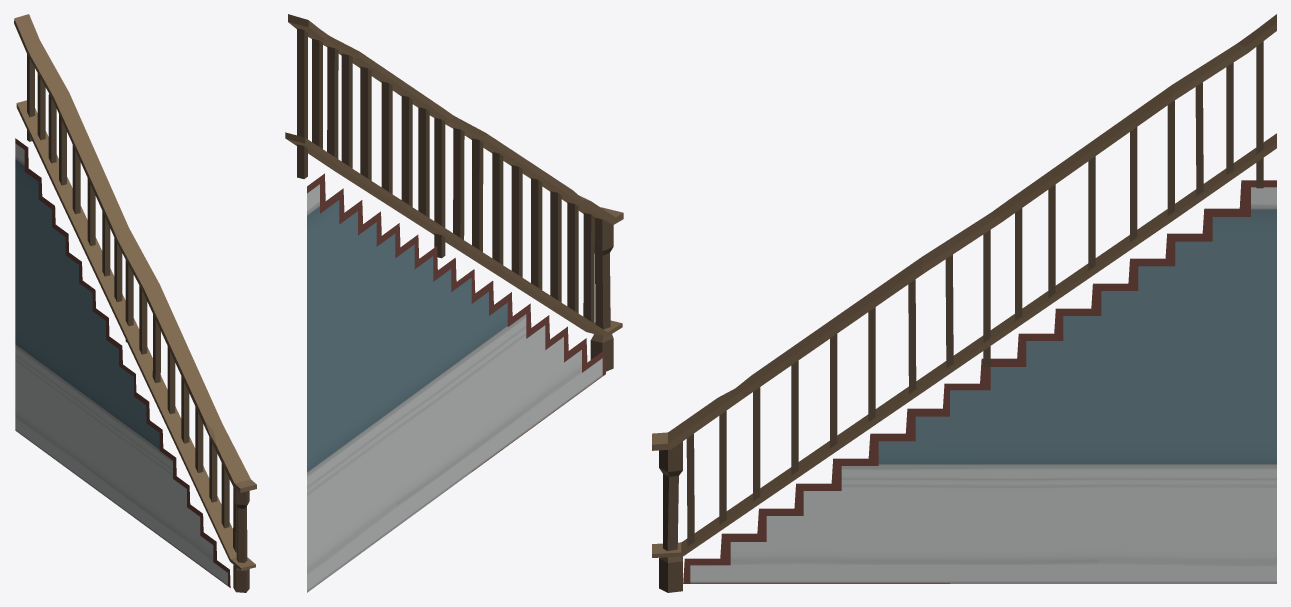
The model's file is SM_Bld_House_Interior_StairsRail_Left_01.fbx.
3 views of the same model, side by side, from view 1: azimuth 30°, elevation 25°; view 2: azimuth 150°, elevation 25°; view 3: azimuth 270°, elevation 25° (orthographic). The views are drawn at different scales.
Visible parts, largest first — view 1: SM_Bld_House_Interior_StairsRail_Left_01; view 2: SM_Bld_House_Interior_StairsRail_Left_01; view 3: SM_Bld_House_Interior_StairsRail_Left_01.
Boxes of the visible parts, x1=… form: SM_Bld_House_Interior_StairsRail_Left_01: x1=14, y1=14, x2=256, y2=592; SM_Bld_House_Interior_StairsRail_Left_01: x1=285, y1=14, x2=623, y2=592; SM_Bld_House_Interior_StairsRail_Left_01: x1=652, y1=14, x2=1276, y2=592.
Size of the model in its own units: 19.1 by 424 by 421.
